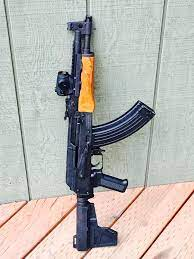gun: (54, 15, 155, 252)
